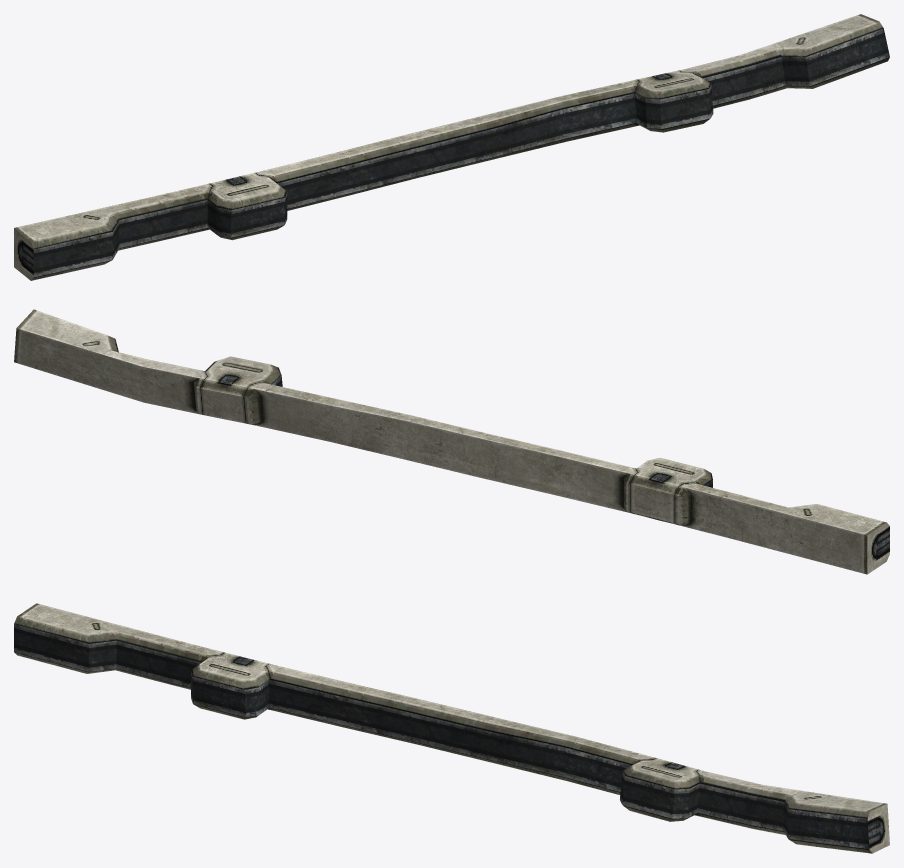
File: catwalk_white_piece_05.dae
The picture shows the model from 3 angles, top to bottom: view 1: azimuth 30°, elevation 25°; view 2: azimuth 150°, elevation 25°; view 3: azimuth 330°, elevation 25°; orthographic projection.
Visible parts, largest first — view 1: side2; view 2: side2; view 3: side2.
Part boxes in pixels (bbox=[...]): side2: bbox=[14, 14, 889, 280]; side2: bbox=[14, 309, 889, 574]; side2: bbox=[14, 603, 889, 853].
Size of the model in its own units: 3.98 by 0.2395 by 0.284.
